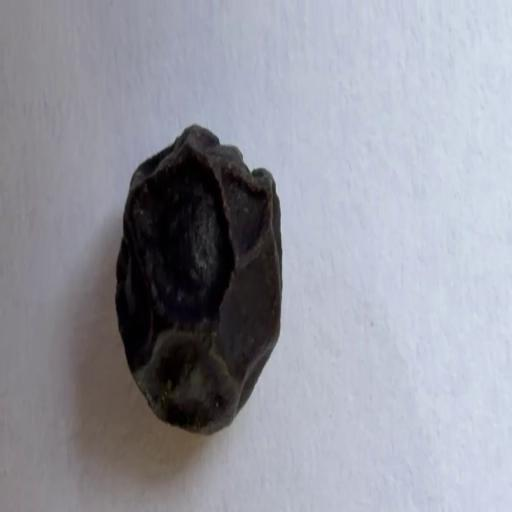Black_pepper: (106, 113, 290, 436)
